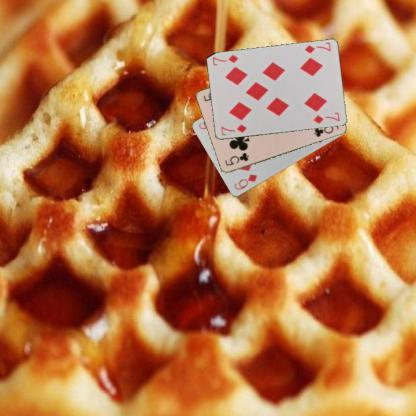5c: (222, 150, 250, 167)
6d: (231, 172, 258, 191)
7d: (218, 122, 248, 137), (302, 40, 332, 55)
